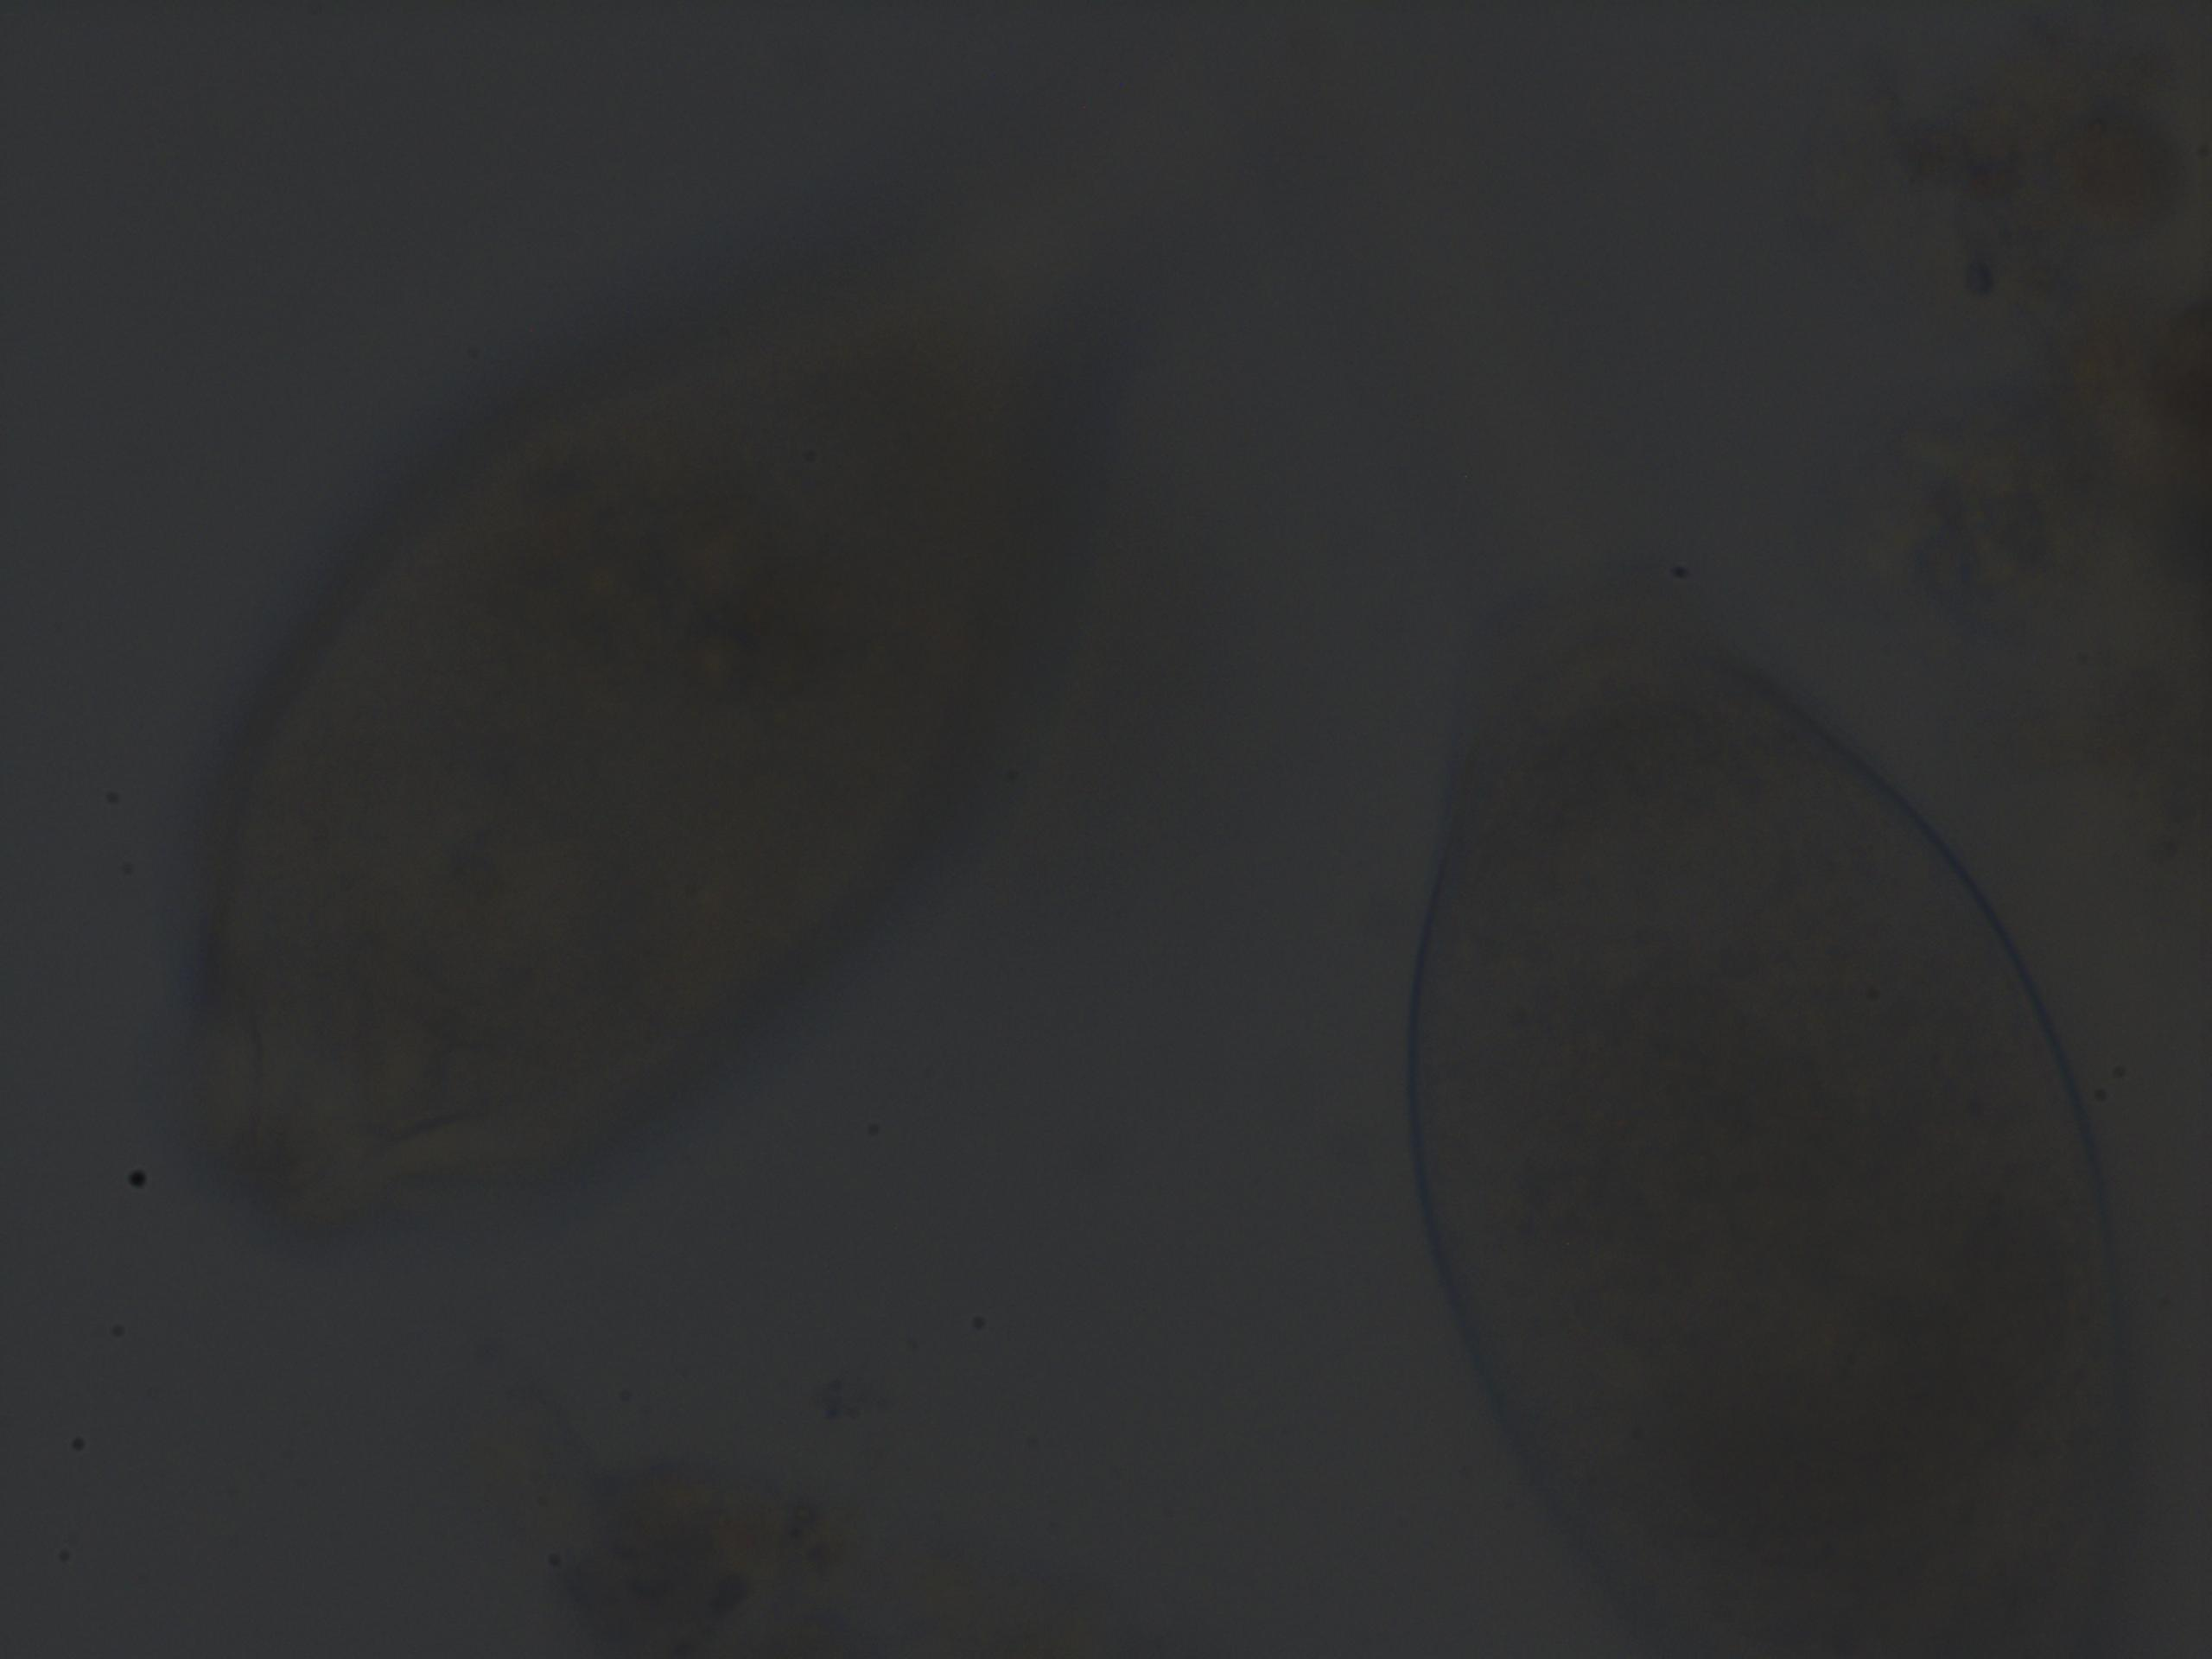protozoa: (1221, 0, 2151, 1659), (132, 16, 1186, 1276)
